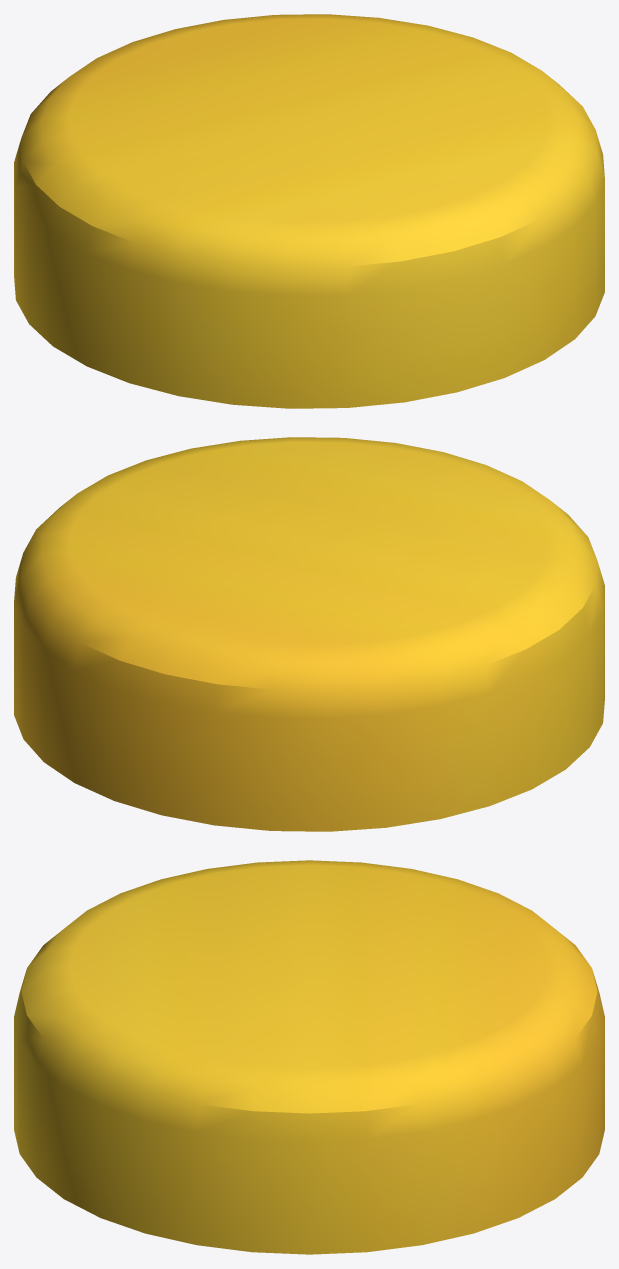
The model's file is shrimp_paste_top_nap.fbx.
The picture shows the model from 3 angles, top to bottom: view 1: azimuth 30°, elevation 25°; view 2: azimuth 150°, elevation 25°; view 3: azimuth 270°, elevation 25°; orthographic projection.
Visible parts, largest first — view 1: shrimp_paste_top_nap; view 2: shrimp_paste_top_nap; view 3: shrimp_paste_top_nap.
Part boxes in pixels (left/top/right/bottom): shrimp_paste_top_nap: left=14, top=14, right=604, bottom=408; shrimp_paste_top_nap: left=14, top=437, right=604, bottom=831; shrimp_paste_top_nap: left=14, top=860, right=604, bottom=1254.
Bounding box in the file's own units: 6.24 × 1.9 × 6.24.
Materials: 1 (1 with a texture image).
